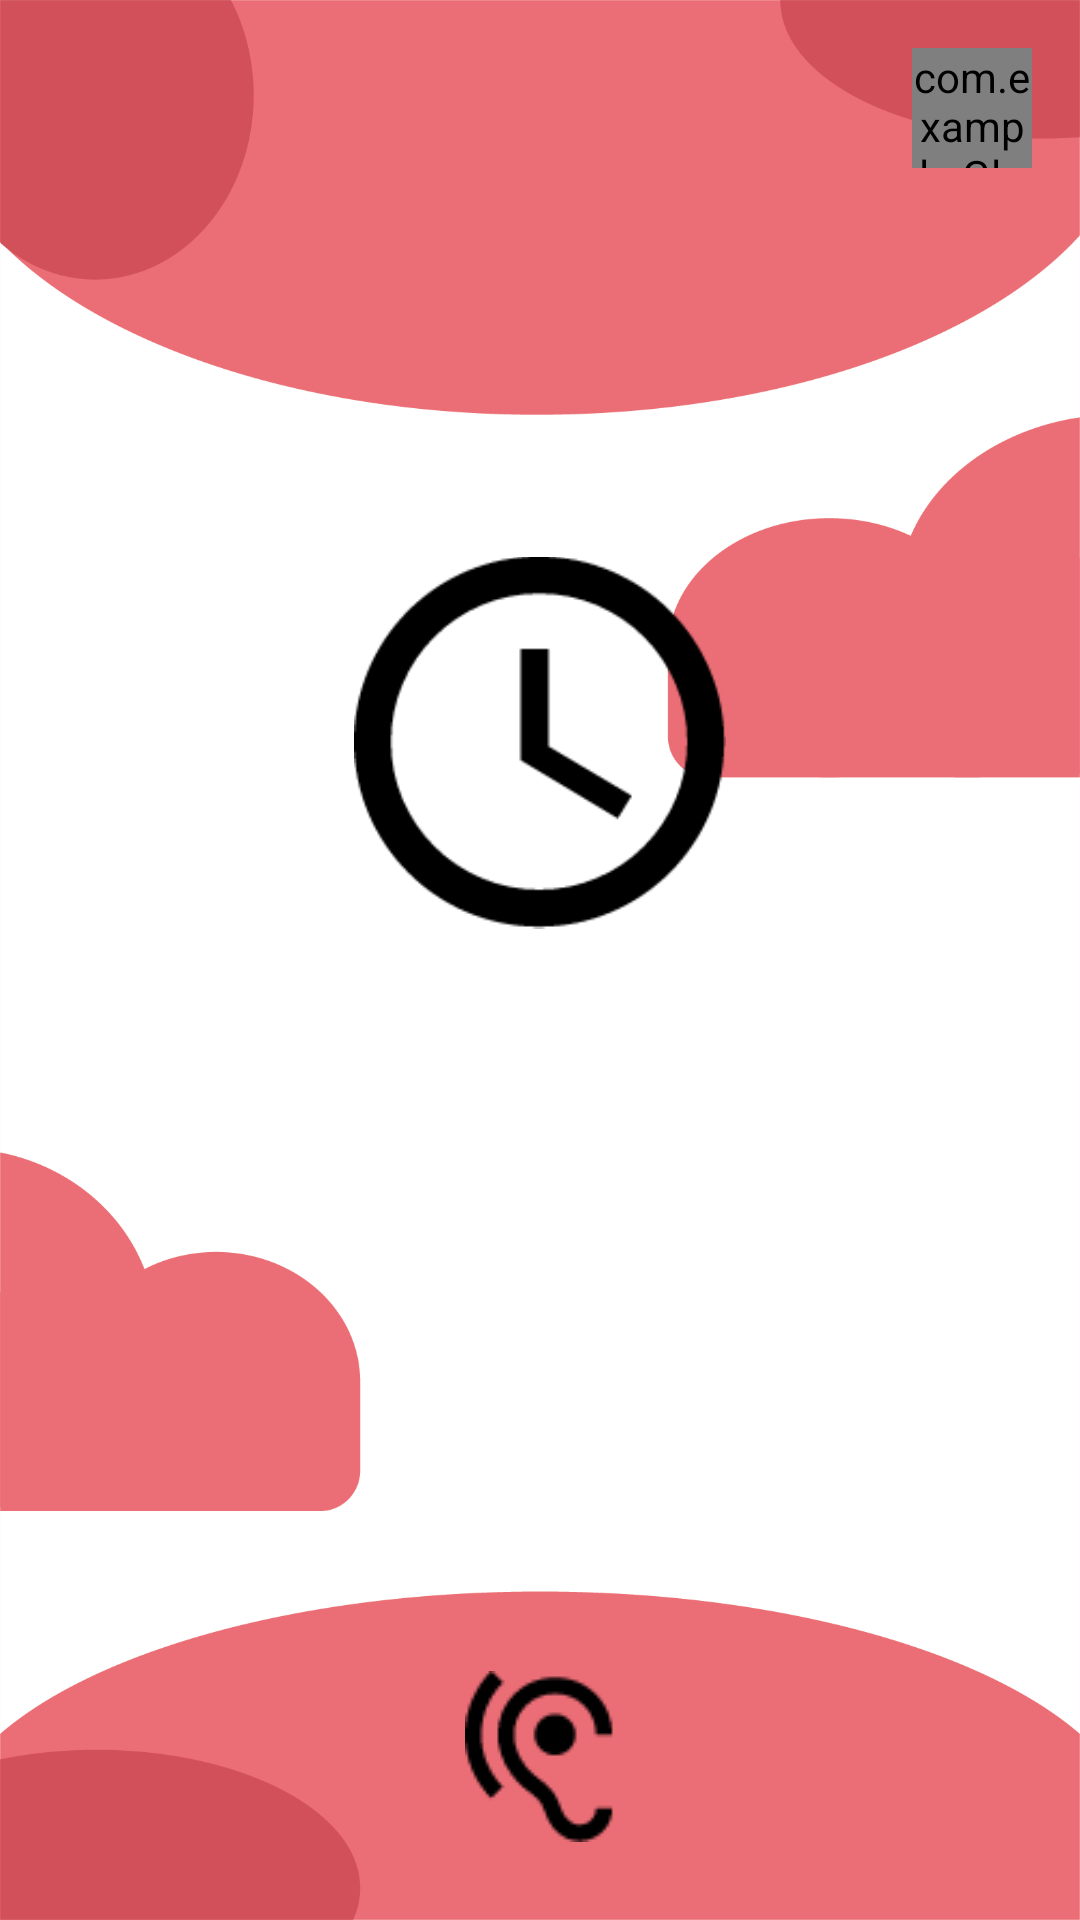

Screen size 1080x1920. Icon name, then its center in pixels as point (x, y):
pictogram oortje: point (539, 1756)
